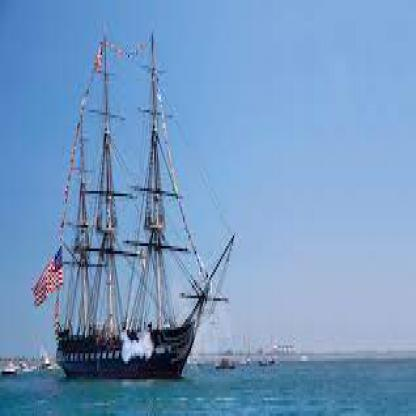Constitution: (25, 10, 260, 414)
